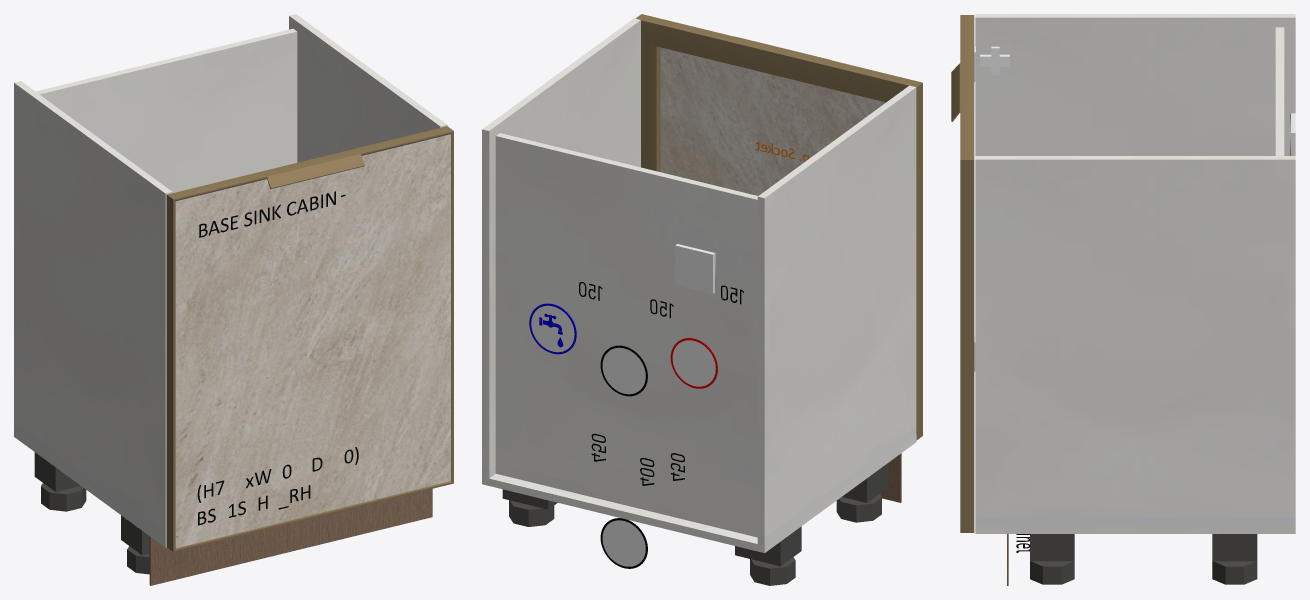
Rendered from BC-SK-TTS-ST-XXX-RHS-XXX-600-720-560-15.glb.
3 views of the same model, side by side, from view 1: azimuth 30°, elevation 25°; view 2: azimuth 150°, elevation 25°; view 3: azimuth 270°, elevation 25° (orthographic). The views are drawn at different scales.
Visible parts, largest first — view 1: Object_node, TP_node_0, TP, TP_node_1, Object_node_68, Extrusion_node_4, ExtrSplGeo, Extrusion_node, Object_node_18, TP_node, 2D text_node, Extrusion_node_3 (+5 smaller); view 2: TP, TP_node_0, Object_node, TP_node_1, TP_node, Extrusion_node, ExtrSplGeo, Extrusion_node_2, Extrusion_node_4, casing, Object_node_64, Object_node_48 (+9 smaller); view 3: TP_node_1, TP_node_0, Extrusion_node_2, Object_node_20, TP_node, Extrusion_node, TP, Plate_node, Plate_node_1, ExtrSplGeo, Foot_node, Foot_node_1.
Part boxes in pixels (x1=…): Object_node: x1=175, y1=134, x2=450, y2=547; TP_node_0: x1=14, y1=81, x2=172, y2=532; TP: x1=35, y1=28, x2=297, y2=192; TP_node_1: x1=289, y1=14, x2=447, y2=162; Object_node_68: x1=149, y1=489, x2=432, y2=585; Extrusion_node_4: x1=166, y1=195, x2=175, y2=551; ExtrSplGeo: x1=260, y1=149, x2=364, y2=188; Extrusion_node: x1=167, y1=126, x2=453, y2=200; Object_node_18: x1=14, y1=422, x2=166, y2=540; TP_node: x1=14, y1=429, x2=166, y2=547; 2D text_node: x1=197, y1=447, x2=358, y2=525; Extrusion_node_3: x1=173, y1=481, x2=453, y2=551; TP: x1=495, y1=133, x2=757, y2=537; TP_node_0: x1=757, y1=85, x2=916, y2=537; Object_node: x1=660, y1=47, x2=885, y2=195; TP_node_1: x1=482, y1=18, x2=640, y2=470; TP_node: x1=482, y1=435, x2=916, y2=553; Extrusion_node: x1=636, y1=14, x2=922, y2=102; ExtrSplGeo: x1=728, y1=36, x2=829, y2=86; Extrusion_node_2: x1=641, y1=27, x2=660, y2=171; Extrusion_node_4: x1=916, y1=83, x2=922, y2=439; casing: x1=675, y1=244, x2=715, y2=293; Object_node_64: x1=602, y1=347, x2=645, y2=394; Object_node_48: x1=602, y1=520, x2=645, y2=566; TP_node_1: x1=975, y1=156, x2=1295, y2=517; TP_node_0: x1=975, y1=14, x2=1295, y2=155; Extrusion_node_2: x1=960, y1=160, x2=974, y2=532; Object_node_20: x1=975, y1=518, x2=1295, y2=526; TP_node: x1=975, y1=526, x2=1295, y2=533; Extrusion_node: x1=960, y1=15, x2=974, y2=159; TP: x1=1275, y1=27, x2=1284, y2=155; Plate_node: x1=1212, y1=534, x2=1257, y2=561; Plate_node_1: x1=1030, y1=534, x2=1074, y2=561; ExtrSplGeo: x1=951, y1=63, x2=974, y2=121; Foot_node: x1=1212, y1=561, x2=1257, y2=584; Foot_node_1: x1=1030, y1=561, x2=1074, y2=584.
Size of what is drawn, in the model's own units: 0.6 by 0.82 by 0.6.
Materials: 13 (3 with a texture image).
